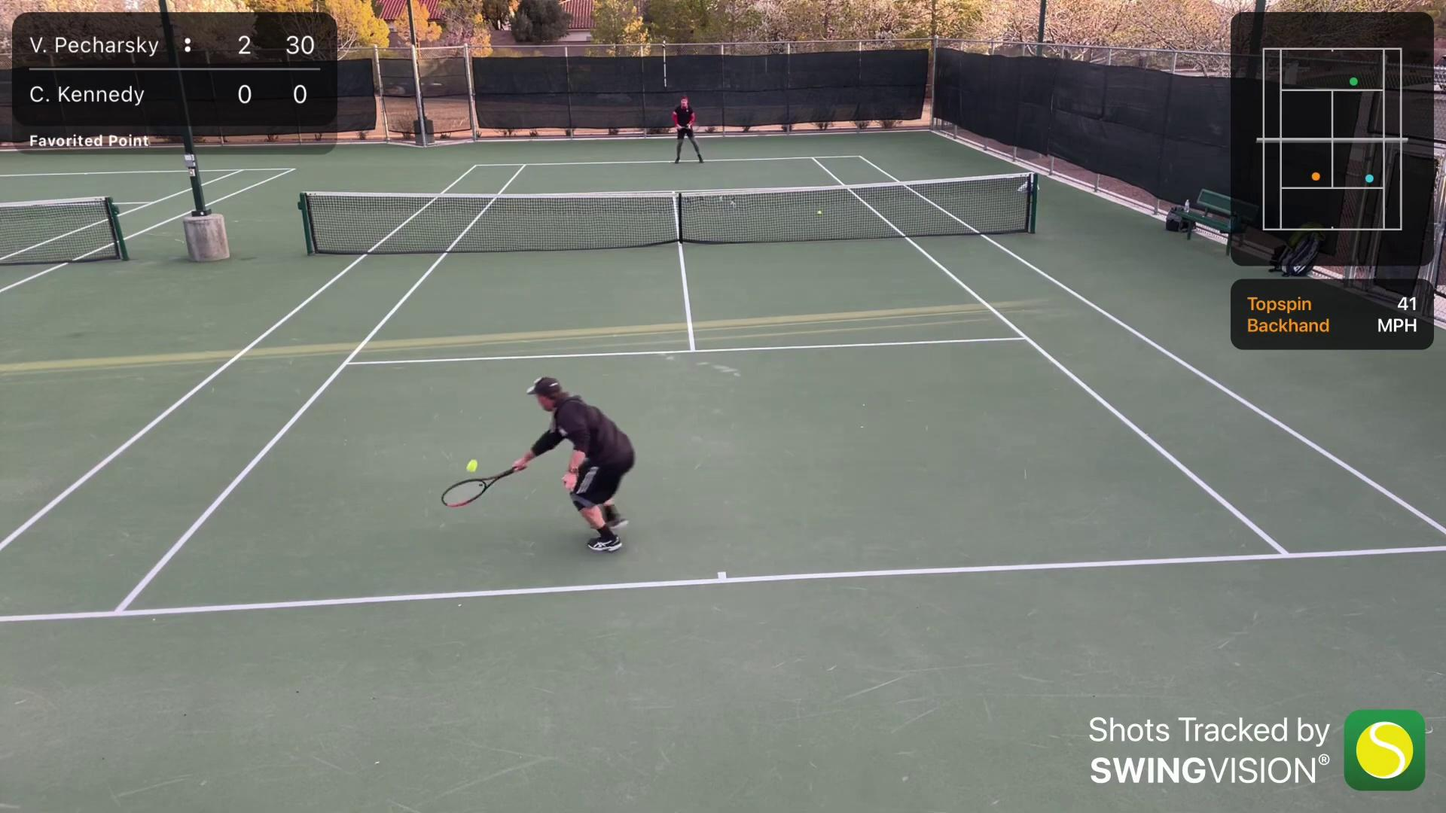ball: (461, 456, 483, 474), (816, 209, 824, 216)
